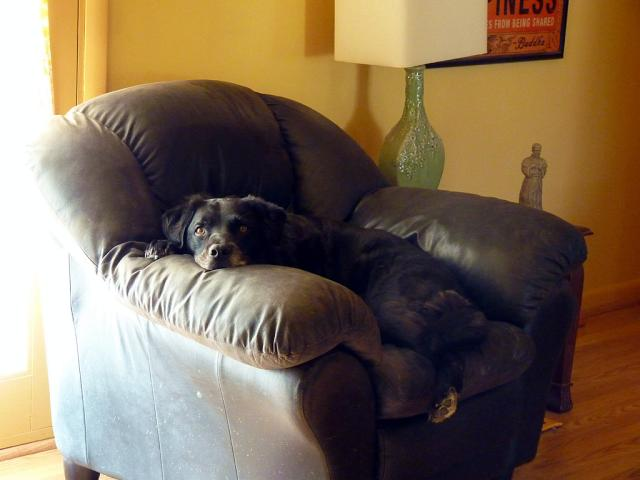Dog: (144, 194, 493, 425)
